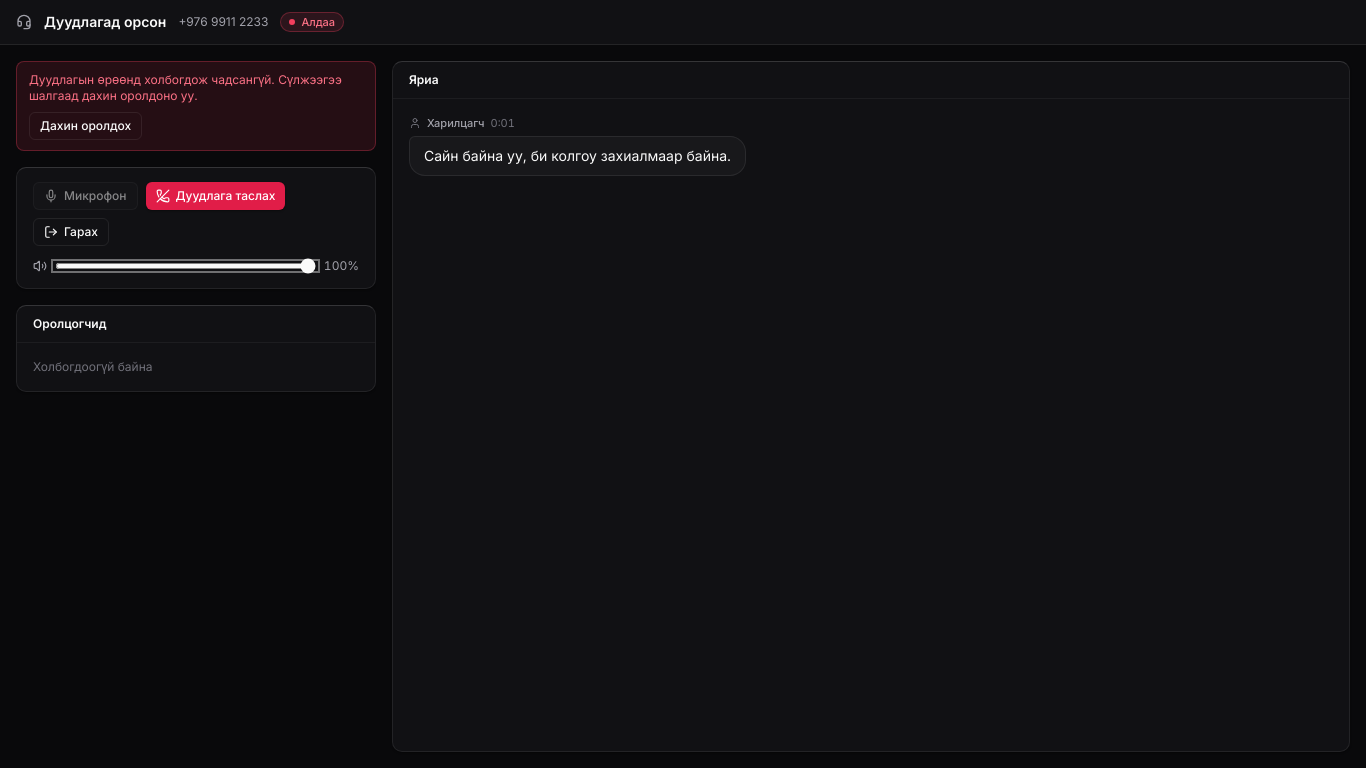
it: OperatorConsole › shows a connection failure, releases the handoff and can retry
Expected: the message shows "Дуудлагын өрөөнд холбогдож чадсангүй. Сүлжээгээ шалгаад дахин оролдоно уу.", top-left (29, 72), bottom-right (342, 103)
Step 1. Click the button "Дахин оролдох" → (86, 126), box top-left (29, 112), bottom-right (142, 140)
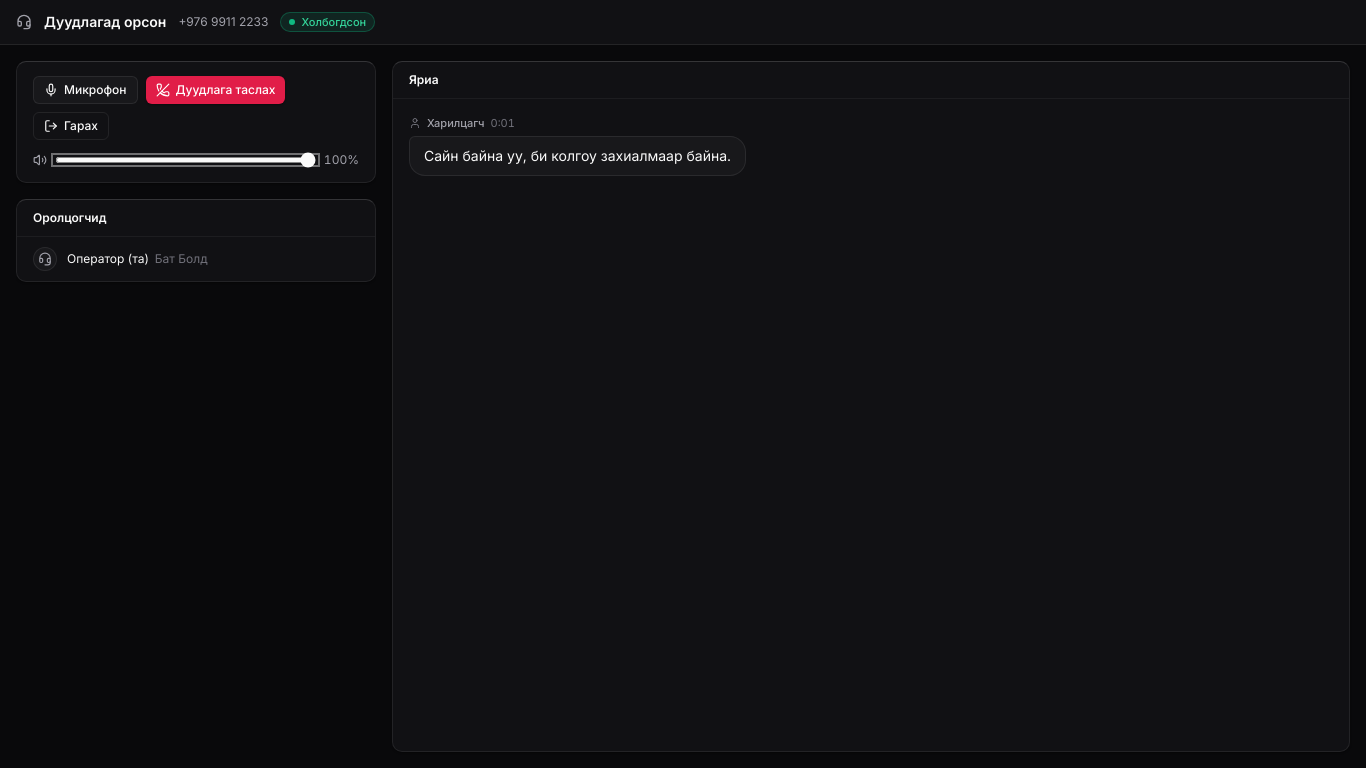
Now the element with test id "room-phase" reads "Холбогдсон", box top-left (301, 14), bottom-right (366, 28)
Now the message is gone
